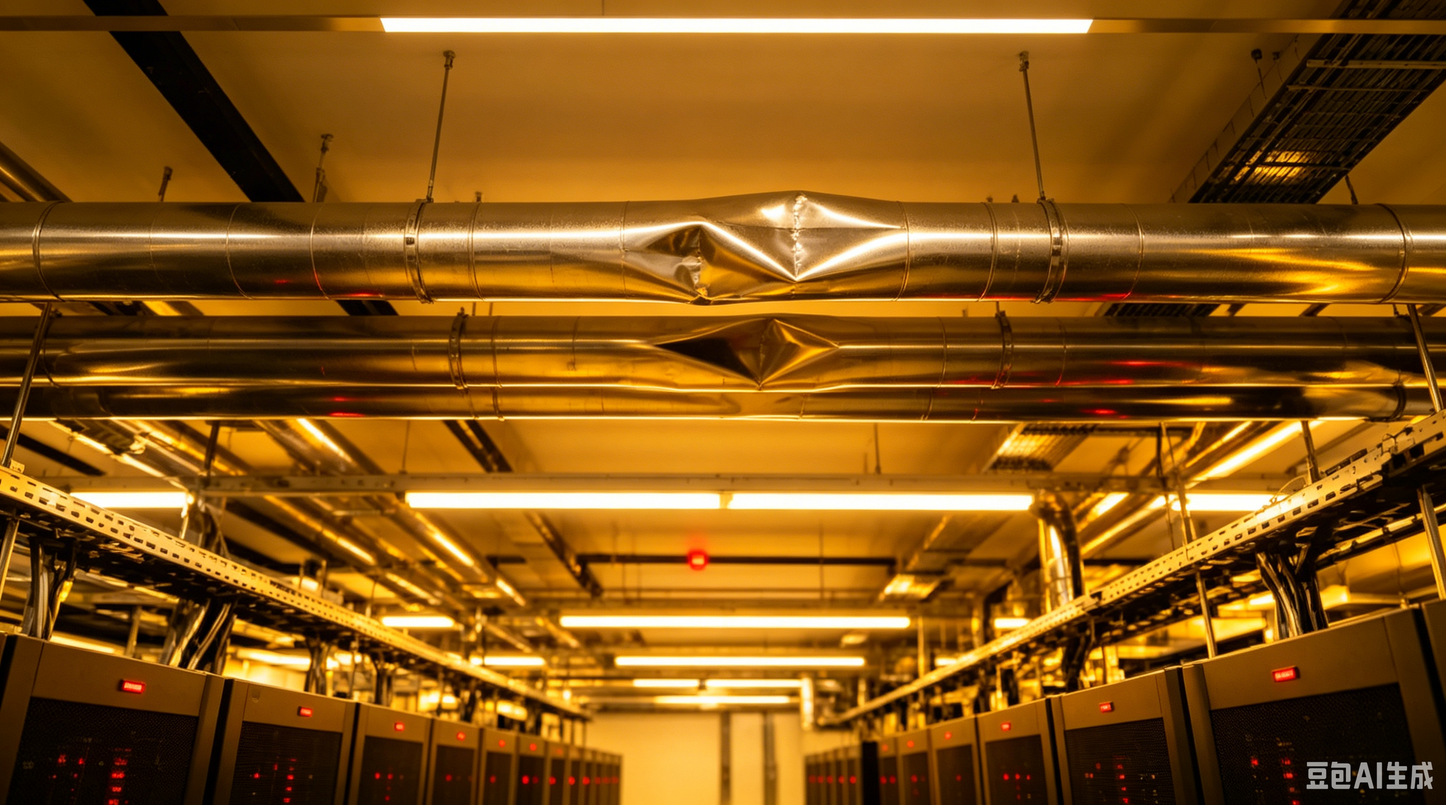Leakage: (636, 311, 883, 402), (725, 197, 915, 286), (627, 210, 753, 302)
